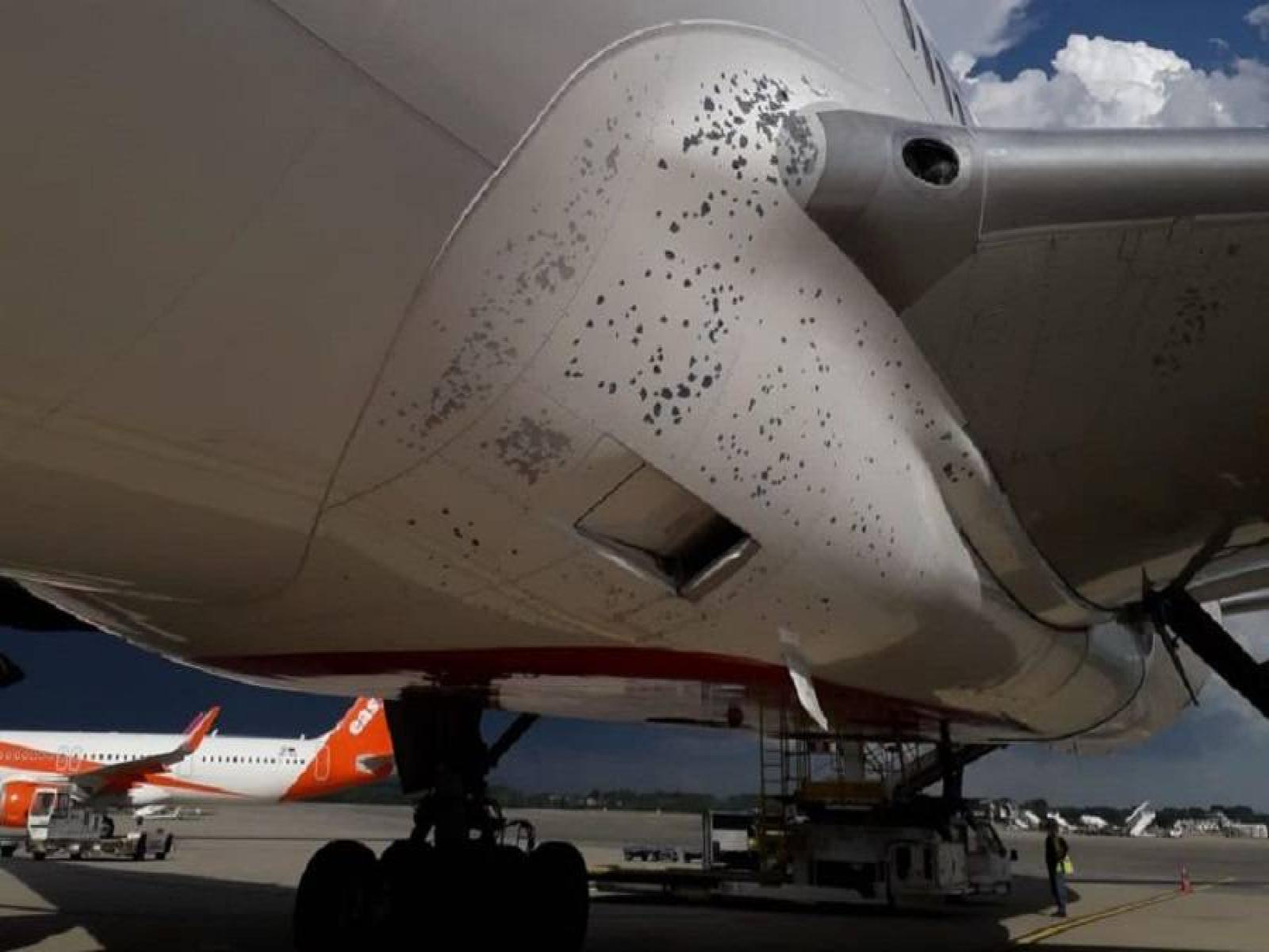Fuselage_damage: (524, 75, 872, 421), (394, 247, 523, 423), (1141, 278, 1233, 388), (709, 423, 833, 499), (472, 420, 586, 493), (834, 503, 922, 583)
